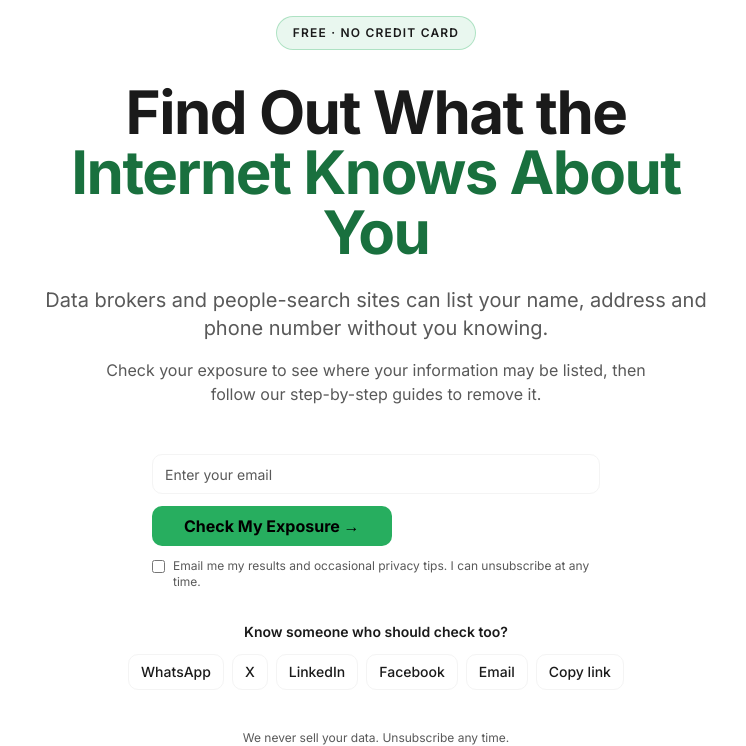
it: Scan page: bad addresses (MPC-8453) › another 400 (not the domain check) keeps the generic message
Type "someone@example.org" into the field named "Email address".
click(376, 474); type("someone@example.org")  # box top-left (152, 454), bottom-right (600, 494)
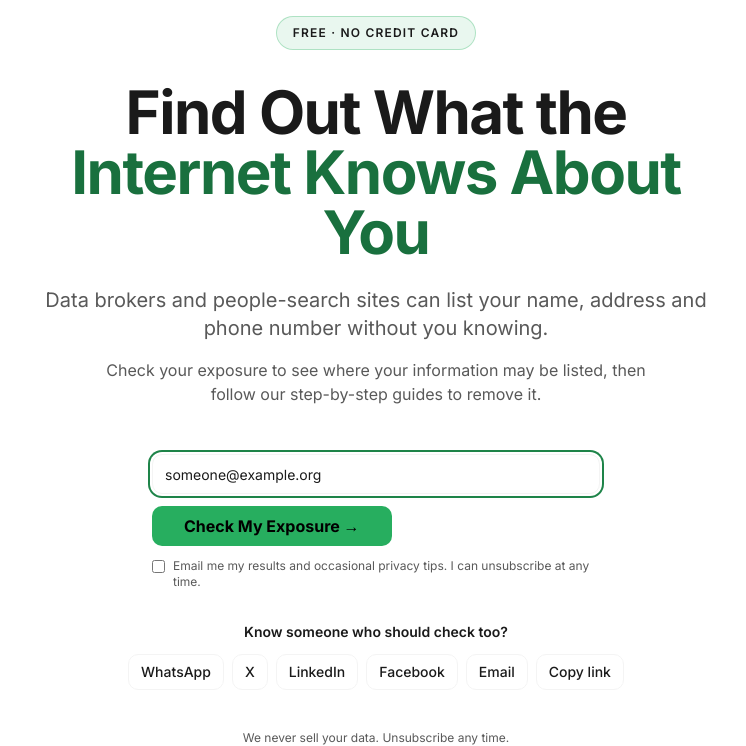
Click the checkbox labelled "Email me my results and occasional privacy tips".
click(158, 566)  # box top-left (152, 560), bottom-right (165, 573)
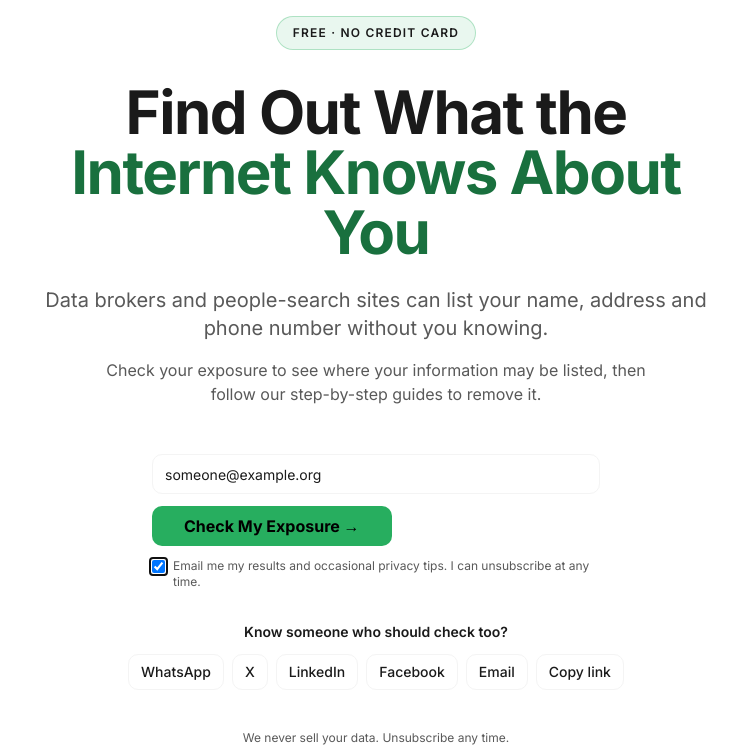
Click the button "Check My Exposure →".
click(272, 526)  # box top-left (152, 506), bottom-right (392, 546)
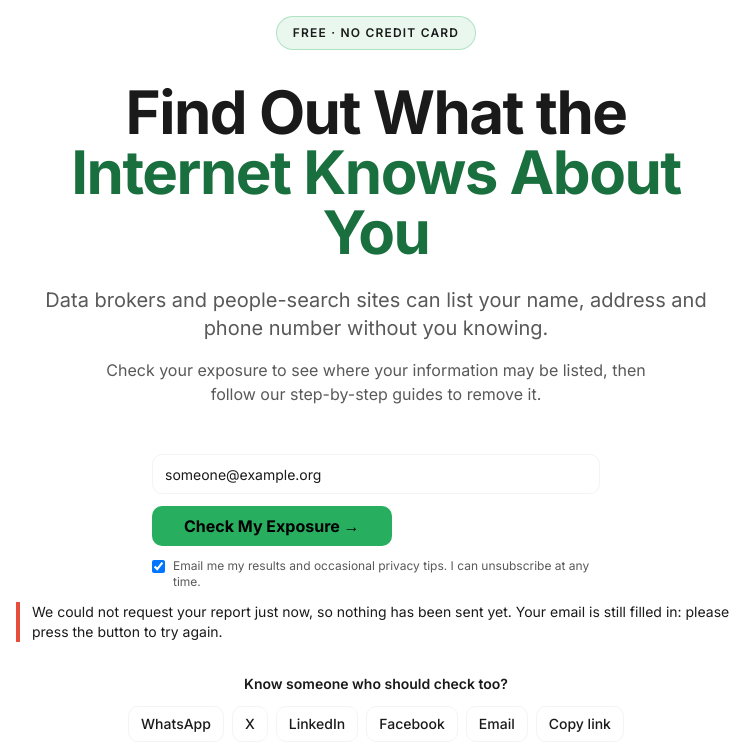
Expected: the message shows "We could not request your report just now, so nothing has been sent yet. Your email is still filled in: please press the button to try again.", top-left (32, 603), bottom-right (729, 640)
